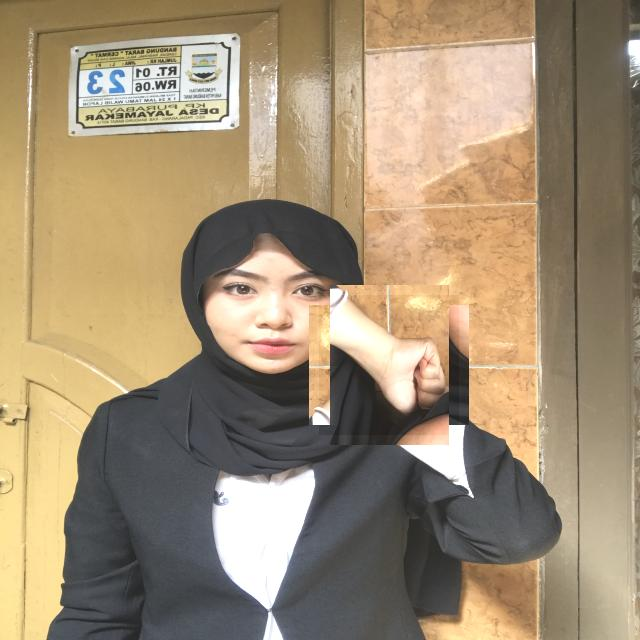ibu: (319, 295, 459, 435)
